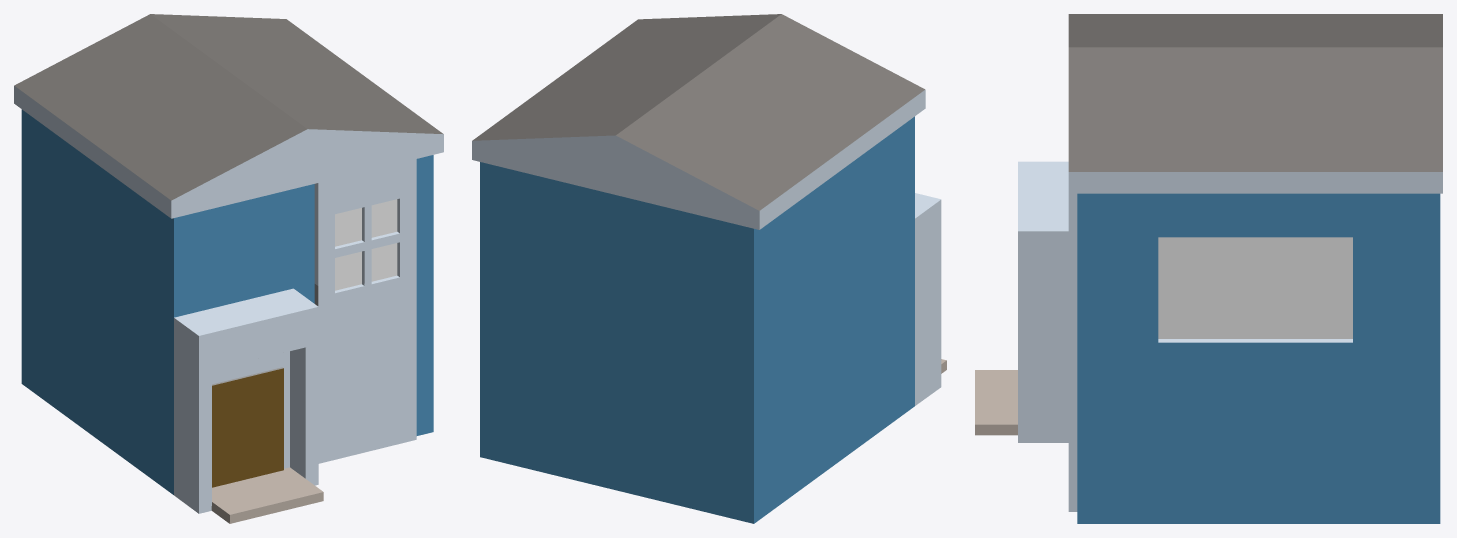
The model's file is player_house.fbx.
3 renders of one model, left to right at view 1: azimuth 30°, elevation 25°; view 2: azimuth 150°, elevation 25°; view 3: azimuth 270°, elevation 25°, orthographic. The views are drawn at different scales.
Visible parts, largest first — view 1: player_house, pCube2; view 2: player_house; view 3: player_house.
Boxes of the visible parts, left/top/right/bottom form: player_house: left=14, top=14, right=443, bottom=523; pCube2: left=212, top=367, right=283, bottom=487; player_house: left=472, top=14, right=946, bottom=523; player_house: left=975, top=14, right=1442, bottom=523.
Bounding box in the file's own units: 6.29 × 7.45 × 7.87.
